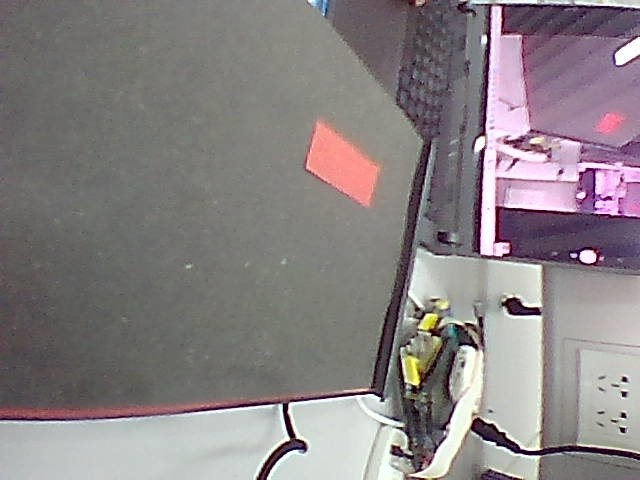card: (306, 122, 379, 207)
